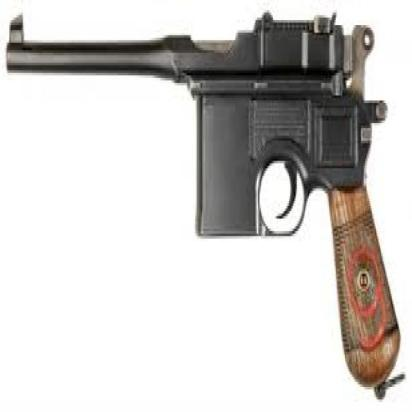Gun: (6, 11, 401, 394)
